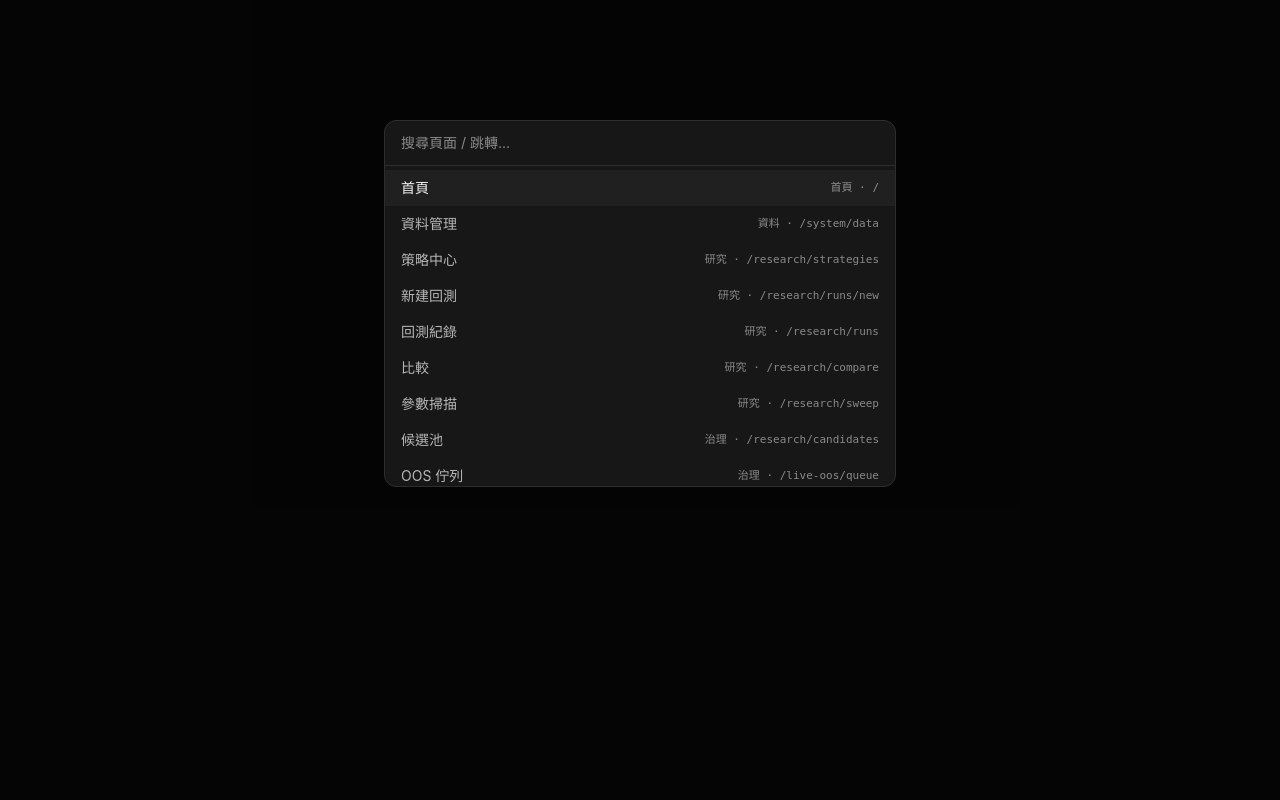
Scenario: CommandPalette › no match shows empty state
The image size is (1280, 800).
Type "zzzznope" into the dropdown with placeholder "搜尋頁面 / 跳轉…". click: (640, 144)
box: [385,121,895,166]
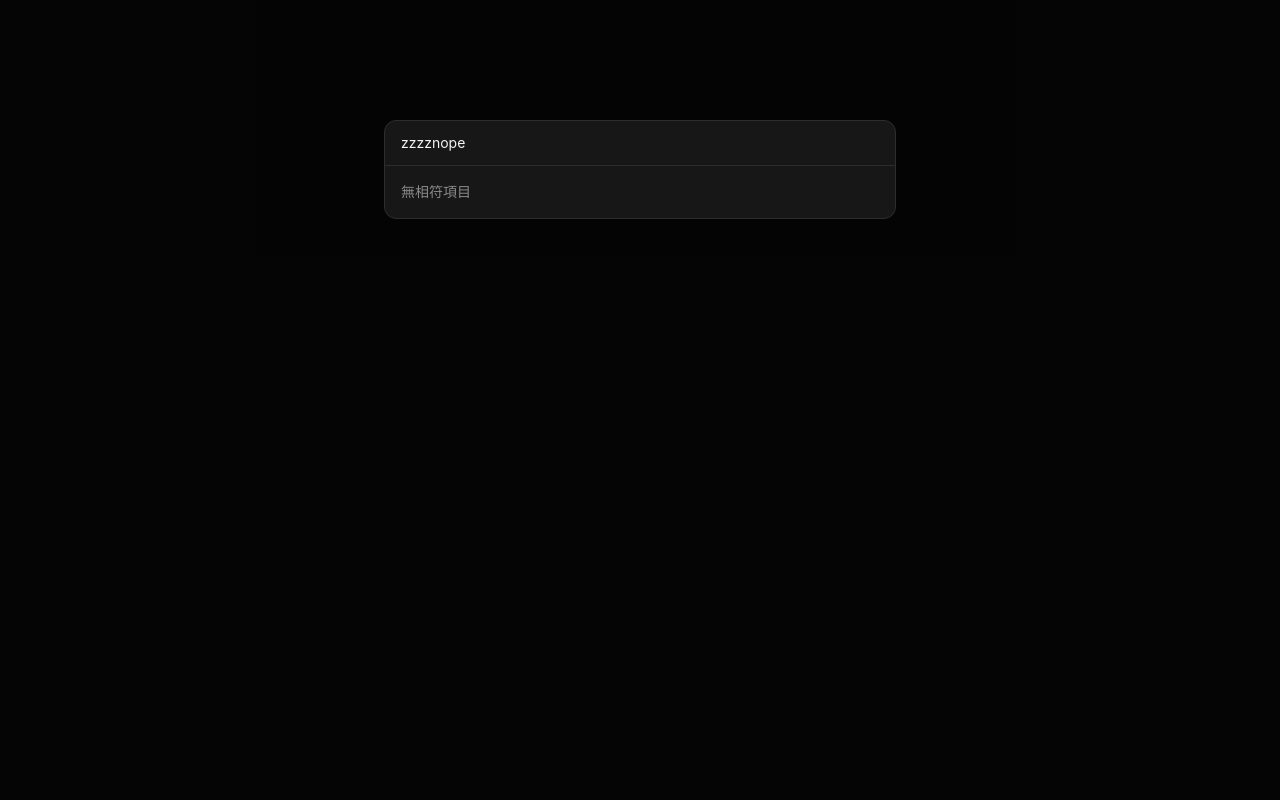
Result: the list item "無相符項目" is shown at [401,183,471,200]
